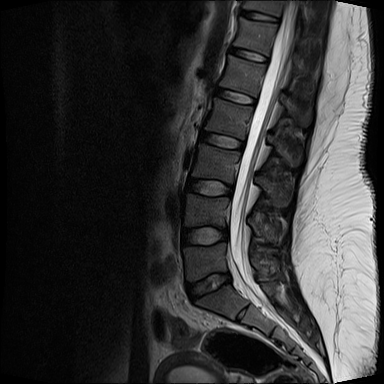Normal IVD: (177, 219, 233, 255), (185, 267, 232, 307), (220, 37, 273, 69), (182, 174, 235, 202), (208, 83, 257, 113), (196, 126, 247, 154), (234, 3, 283, 28)
